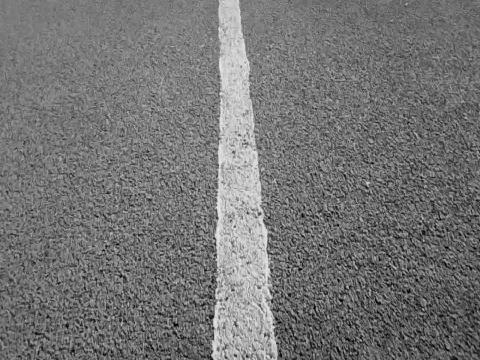Lines: (211, 0, 280, 360)
